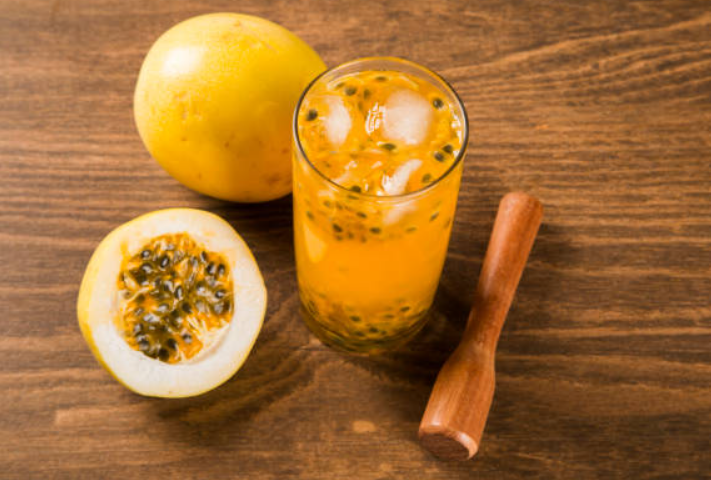maracuya: (130, 12, 344, 206)
